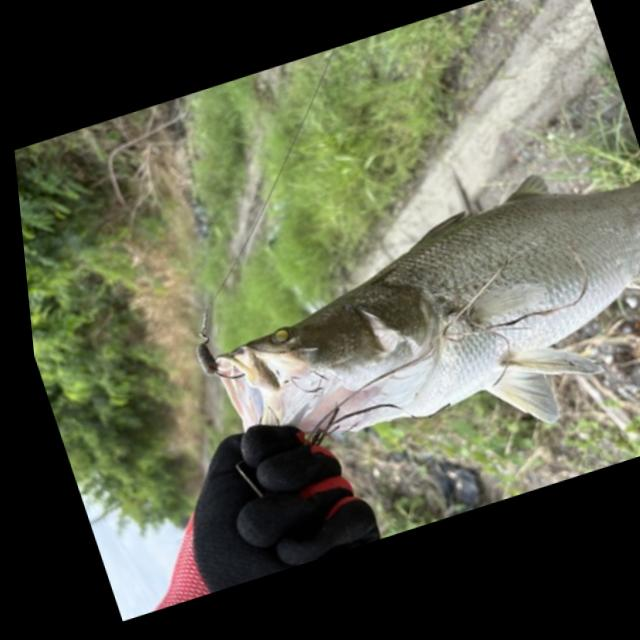Seabass: (176, 138, 640, 516)
